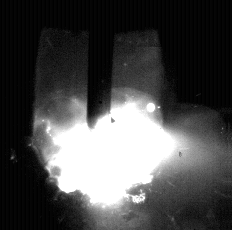arame: (88, 0, 112, 128)
poca: (31, 0, 177, 230)
